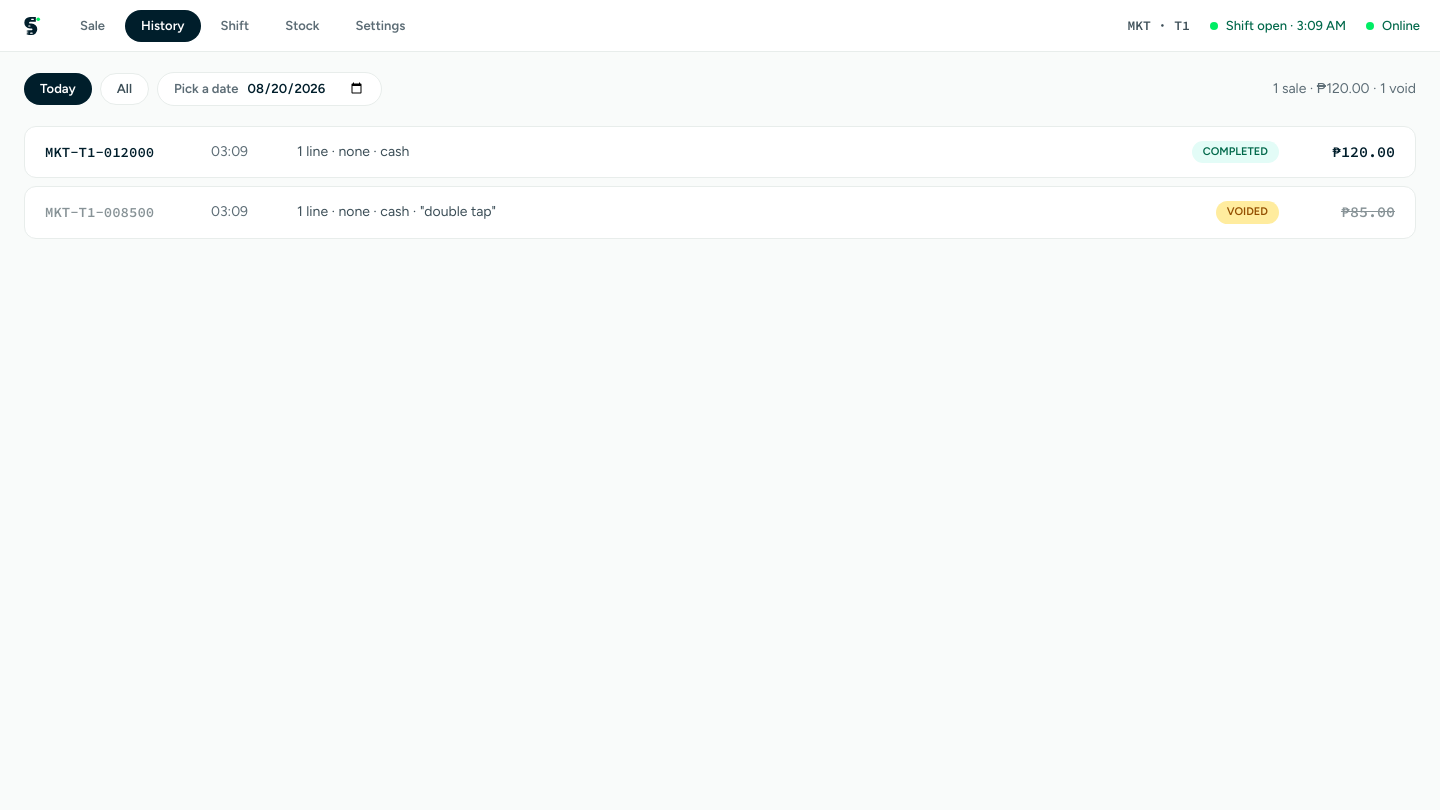
Test: going back returns to the list
Click the button "MKT-T1-012000 03:09 1 line · none · cash COMPLETED ₱120.00". click: (100, 152)
box: left=24, top=126, right=1416, bottom=178
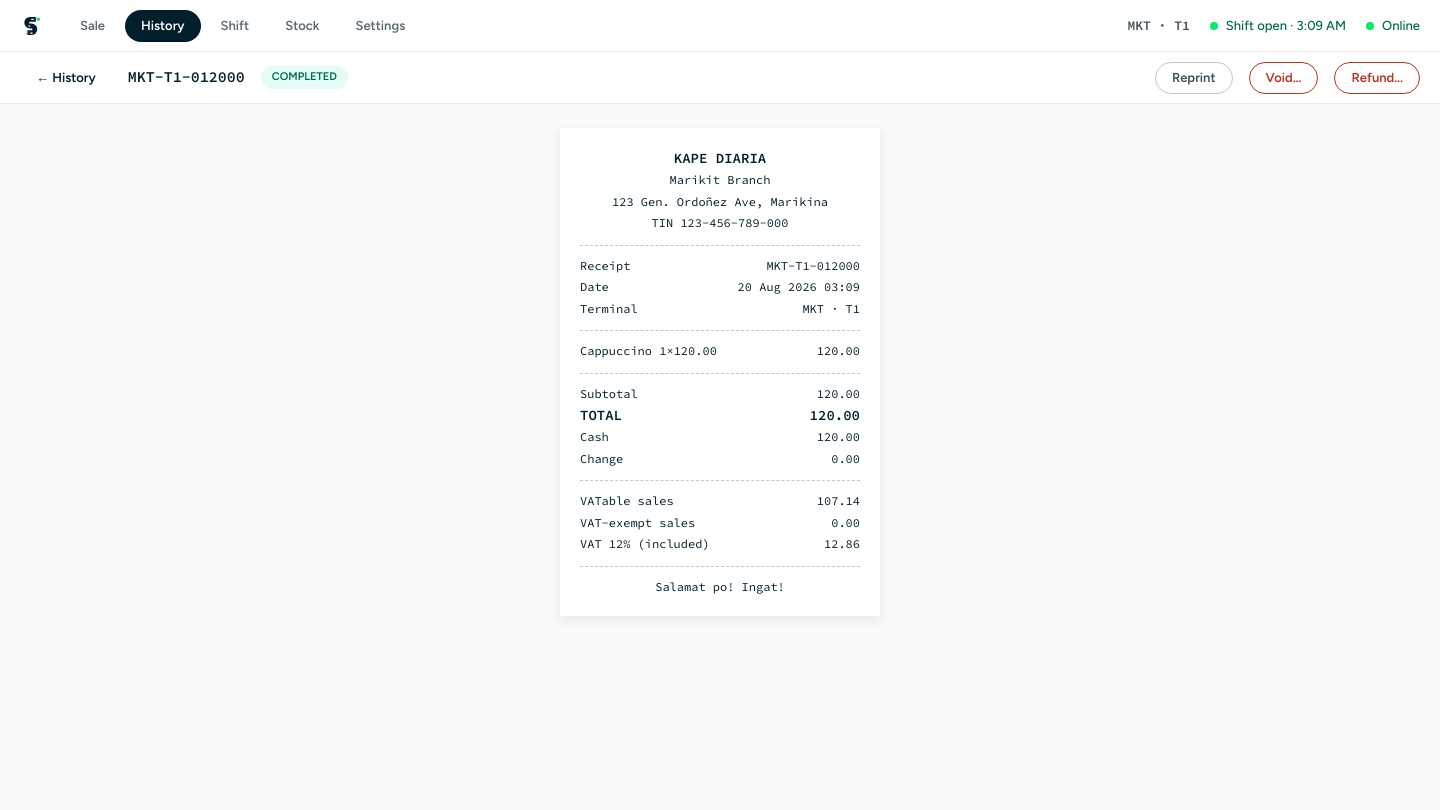
Click the button "← History". click: (66, 78)
box: left=20, top=62, right=112, bottom=94
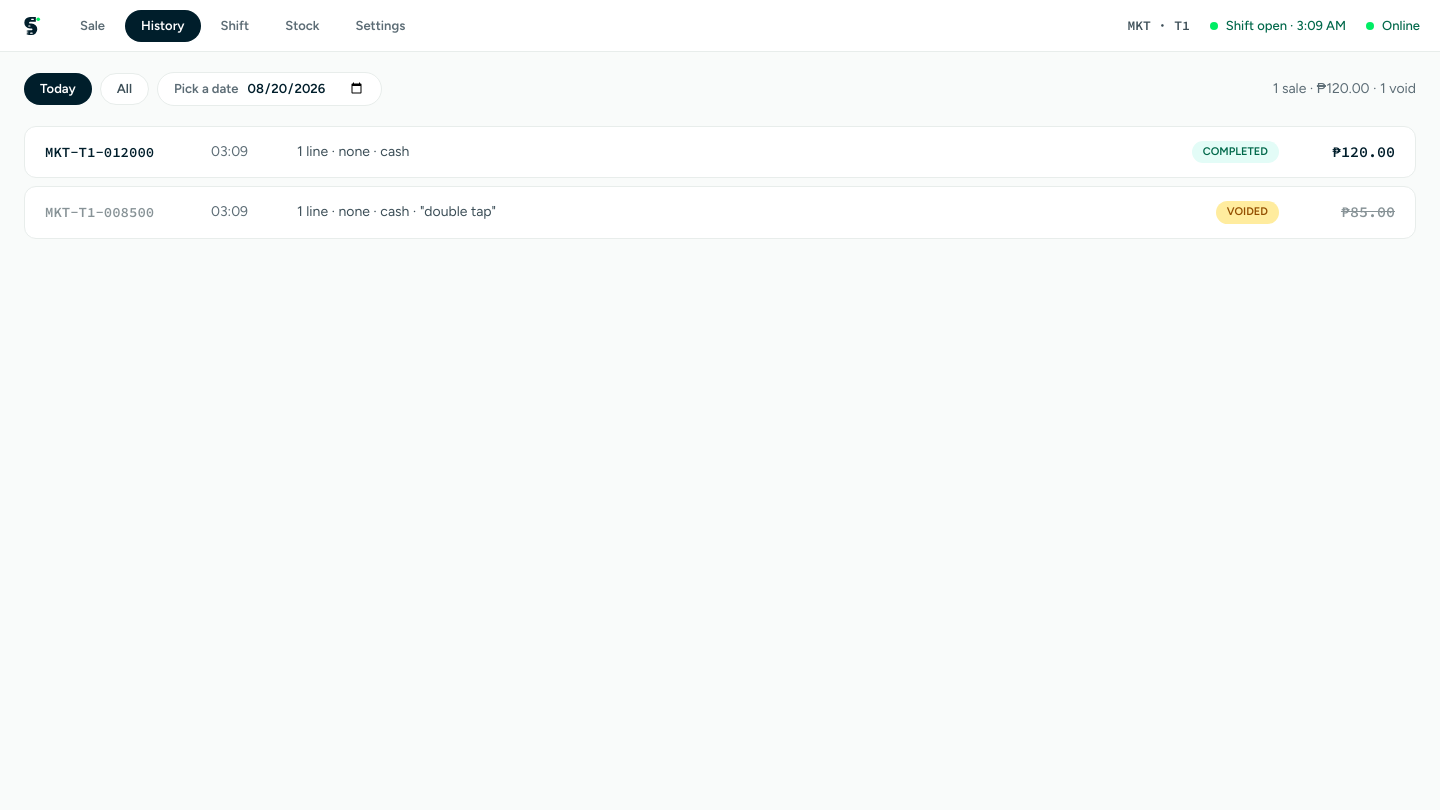
Now the number of buttons "MKT-T1-012000 03:09 1 line · none · cash COMPLETED ₱120.00" is 2, box left=24, top=126, right=1416, bottom=178; left=24, top=186, right=1416, bottom=238
